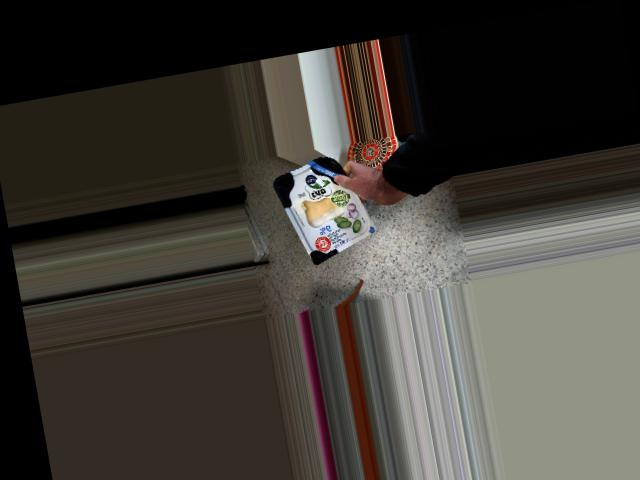cheese: (268, 149, 377, 270)
